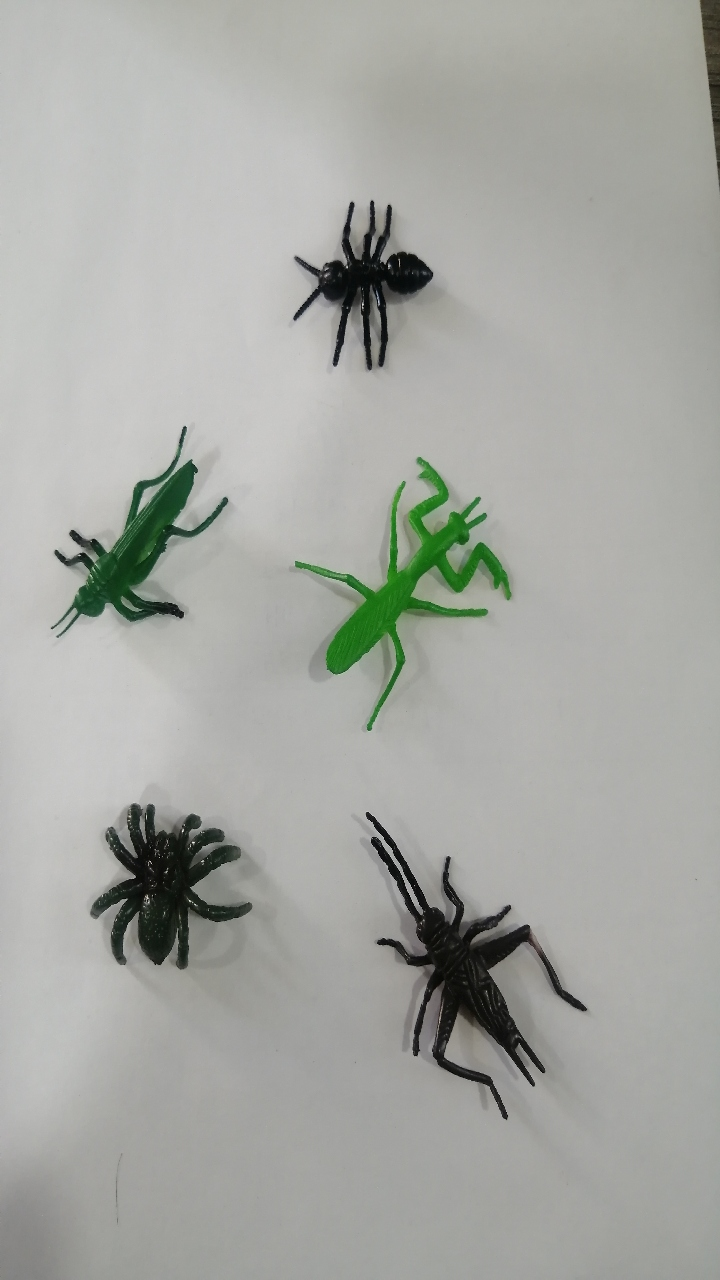intruso: (344, 772, 598, 1134), (281, 417, 535, 745), (18, 397, 229, 685), (54, 745, 274, 1003), (269, 162, 449, 386)
